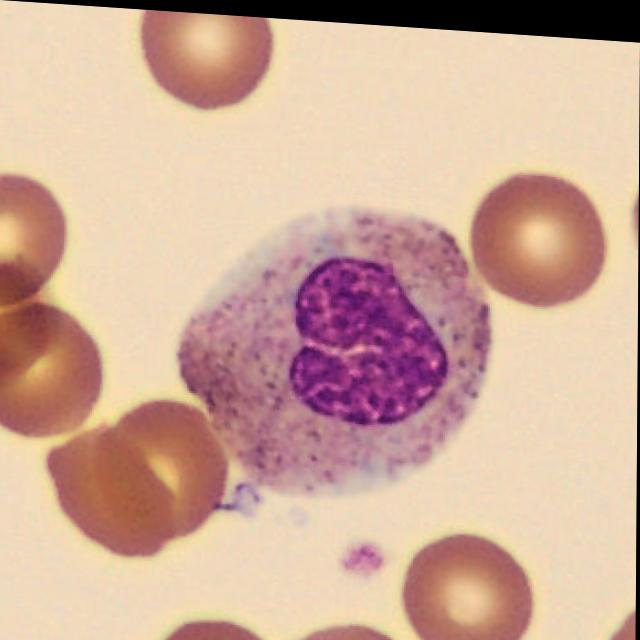Bastonete: (177, 201, 492, 499)
